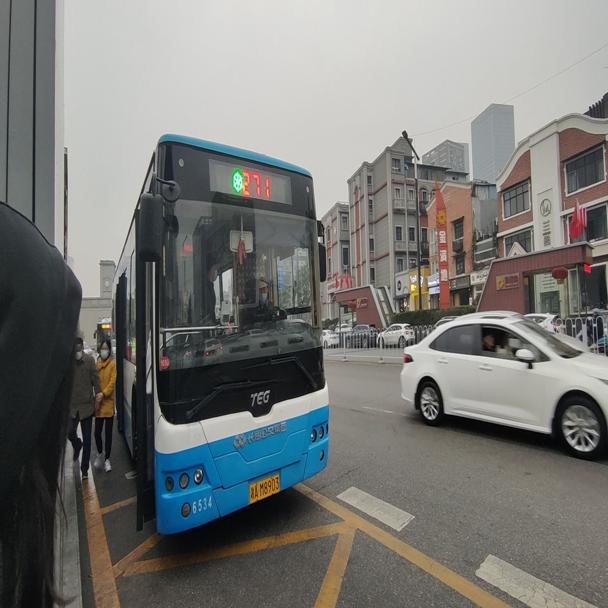bus: (106, 130, 330, 541)
screen: (239, 162, 275, 203)
